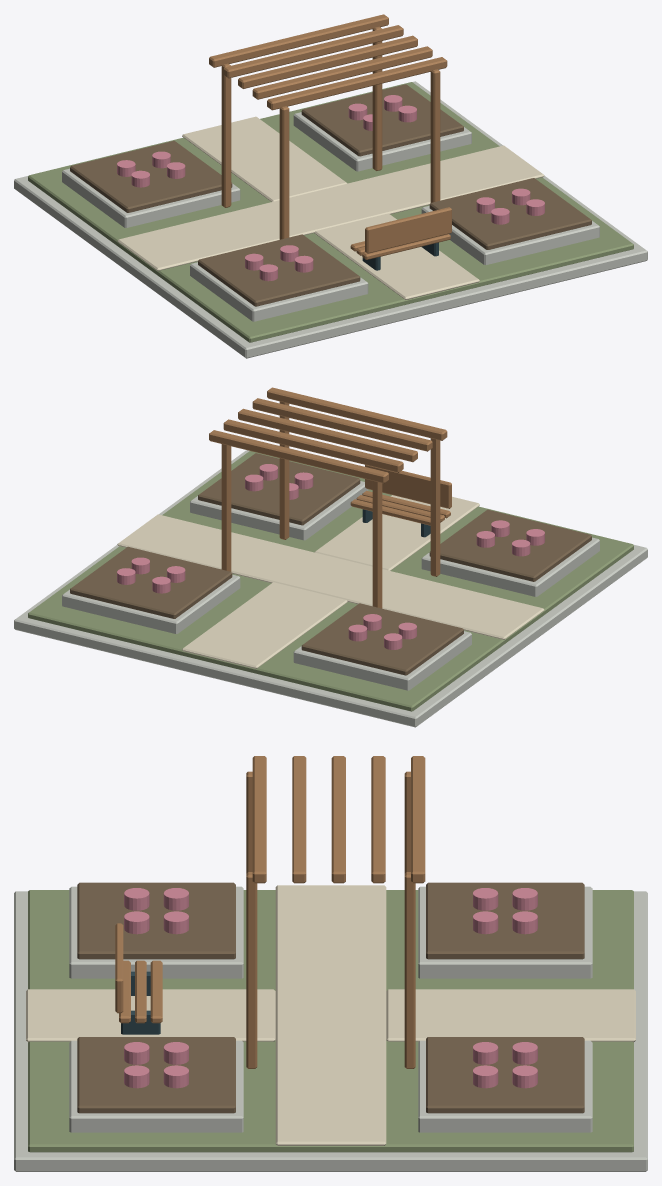
File: park-garden-2x2.glb
The picture shows the model from 3 angles, top to bottom: view 1: azimuth 30°, elevation 25°; view 2: azimuth 150°, elevation 25°; view 3: azimuth 270°, elevation 25°; orthographic projection. The views are drawn at different scales.
Parts seen in each view (by area): view 1: FacilityCombinedMesh; view 2: FacilityCombinedMesh; view 3: FacilityCombinedMesh.
Part boxes in pixels (x1,y1,x2,y2): FacilityCombinedMesh: (14,14,647,358); FacilityCombinedMesh: (14,387,647,727); FacilityCombinedMesh: (14,756,647,1171).
Size of the model in its own units: 8 by 3.13 by 8.
